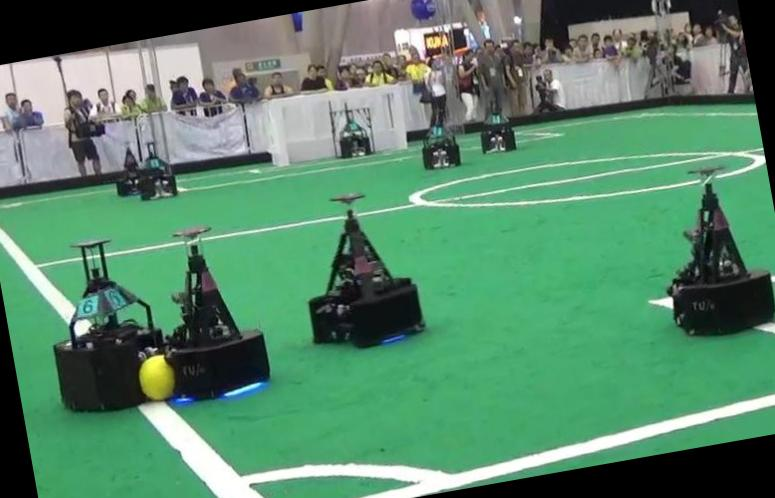ball: (138, 354, 175, 400)
goal: (267, 98, 291, 166), (393, 84, 408, 149)
robot: (53, 240, 162, 411), (166, 225, 269, 400), (668, 167, 775, 335), (308, 195, 423, 347), (329, 102, 375, 158), (138, 143, 176, 200), (480, 94, 516, 152), (424, 126, 461, 169), (116, 147, 139, 196)
